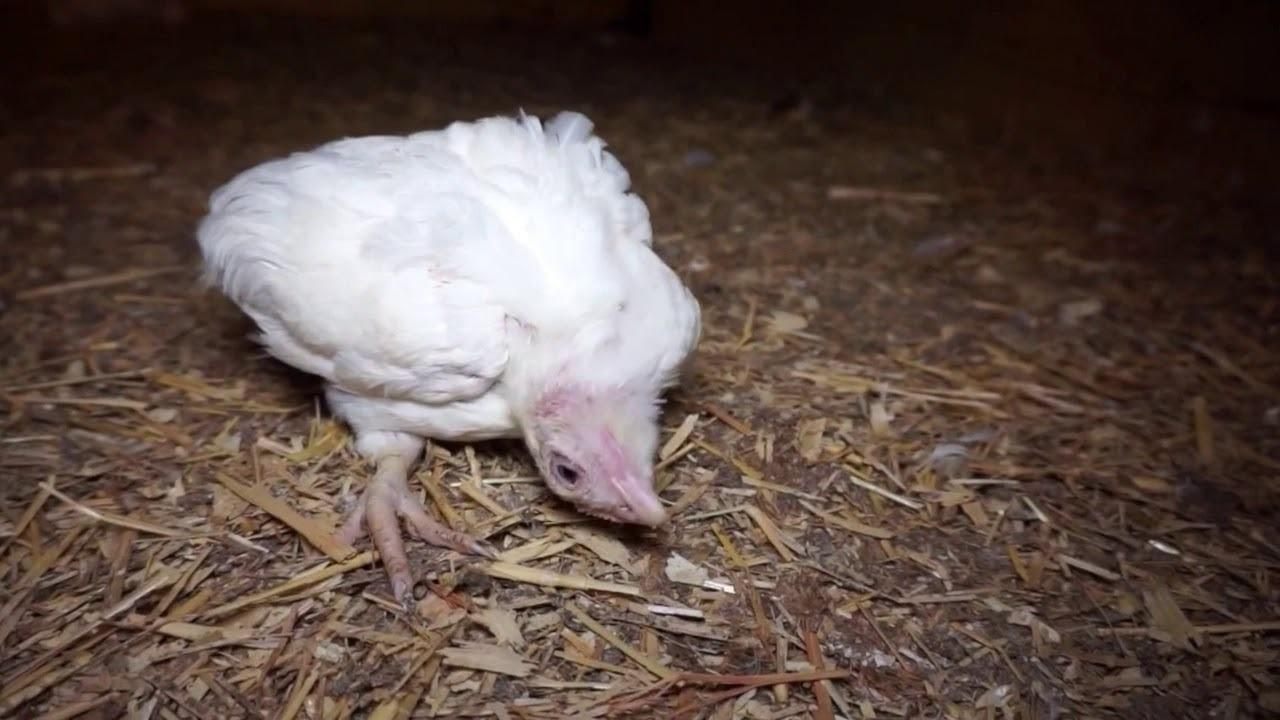AbNormal: (186, 105, 704, 601)
